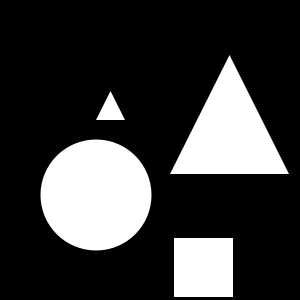circle: (174, 238, 233, 297)
rectangle: (40, 140, 152, 250)
triangle: (170, 55, 289, 174), (96, 91, 125, 120)
